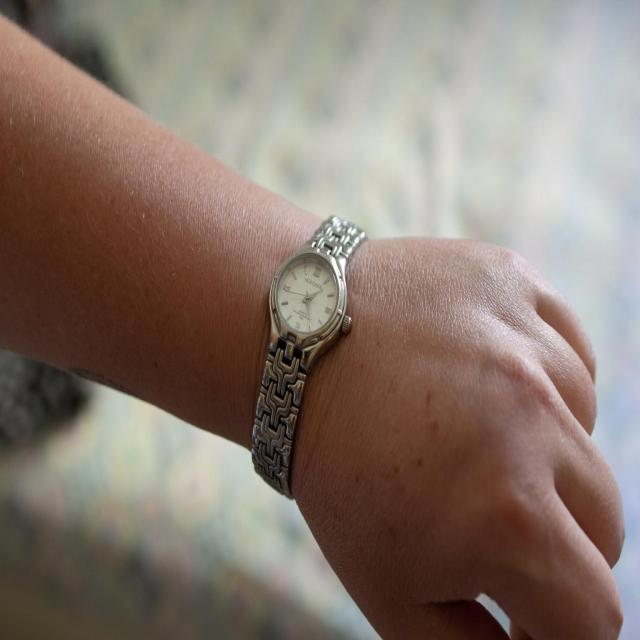Wrist watch: (250, 216, 368, 499)
